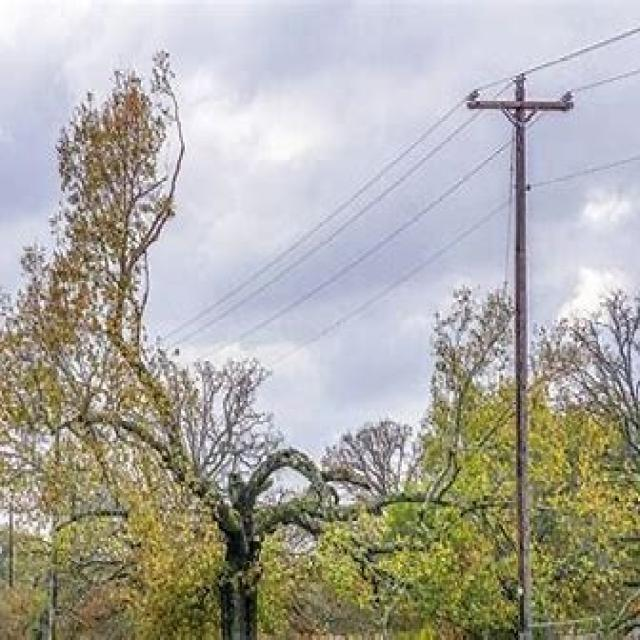utility poles: (455, 55, 584, 636)
